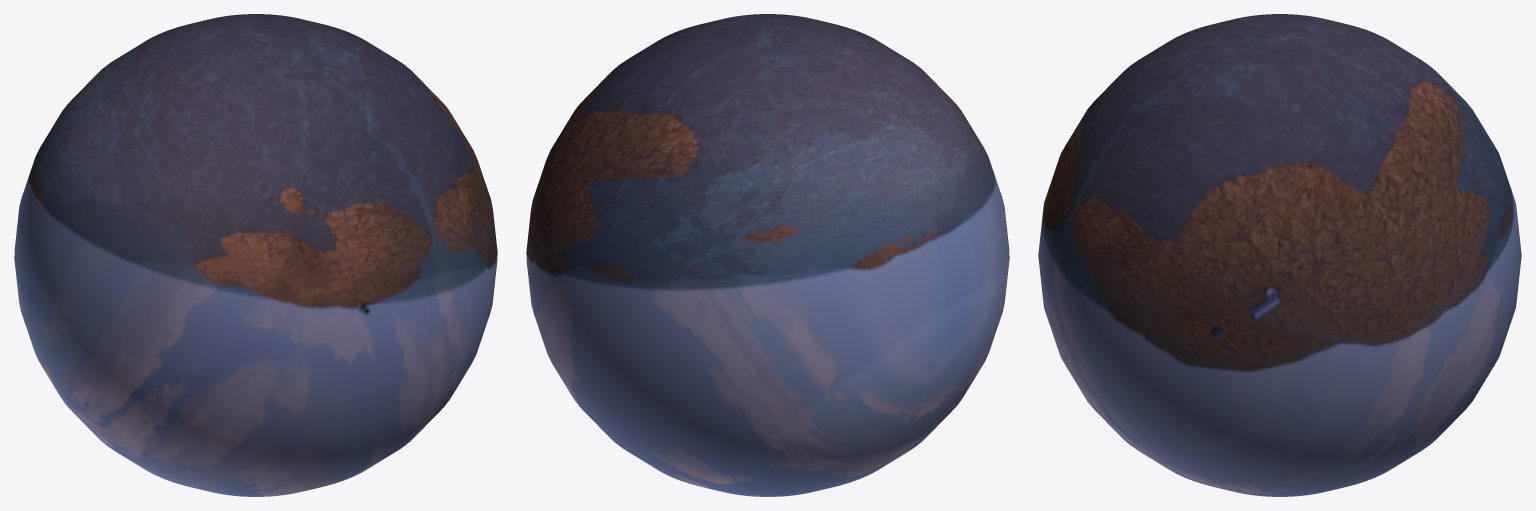
File: schupano.obj
The picture shows the model from 3 angles, left to right: view 1: azimuth 30°, elevation 25°; view 2: azimuth 150°, elevation 25°; view 3: azimuth 270°, elevation 25°; orthographic projection.
Parts seen in each view (by area): view 1: Sphere; view 2: Sphere; view 3: Sphere.
Part boxes in pixels (x1,y1,x2,y2): Sphere: (14,14,497,496); Sphere: (526,14,1009,496); Sphere: (1038,14,1521,496).
Bounding box in the file's own units: 62 × 62 × 62.
1 material, 1 textured.
